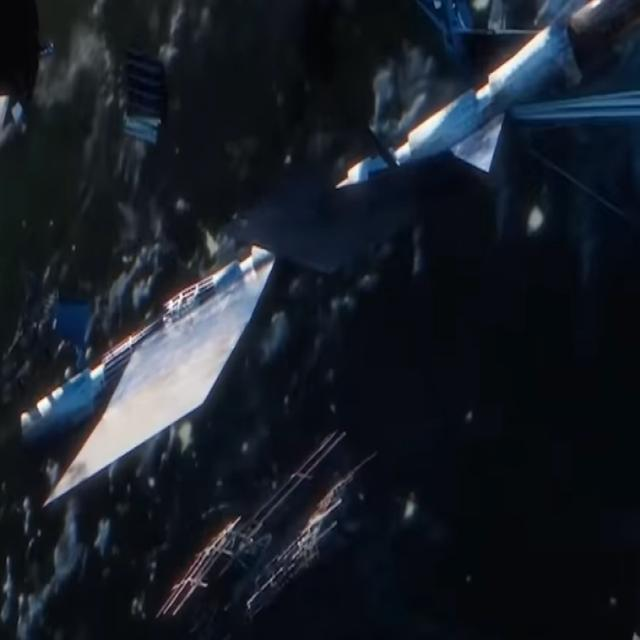large_debris: (14, 0, 640, 514), (160, 421, 384, 639), (98, 21, 182, 175)
